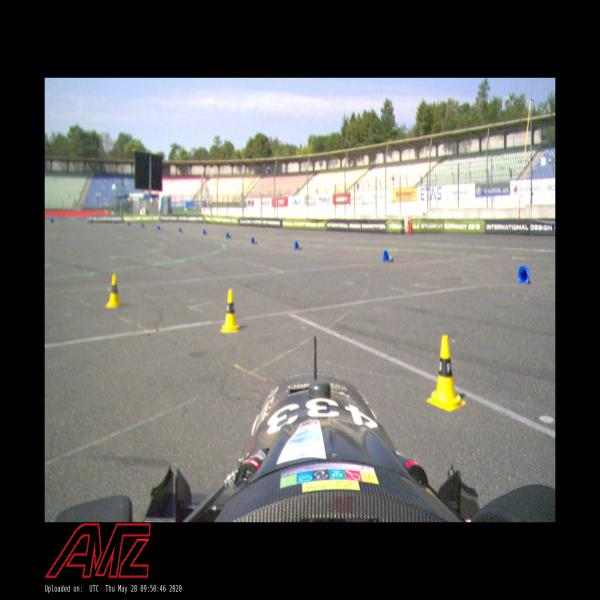blue_cone: (517, 265, 530, 284), (382, 249, 394, 263), (294, 241, 302, 251), (250, 236, 258, 245), (226, 232, 232, 239)
yellow_cone: (425, 334, 466, 412), (220, 289, 240, 333), (105, 273, 122, 308)
